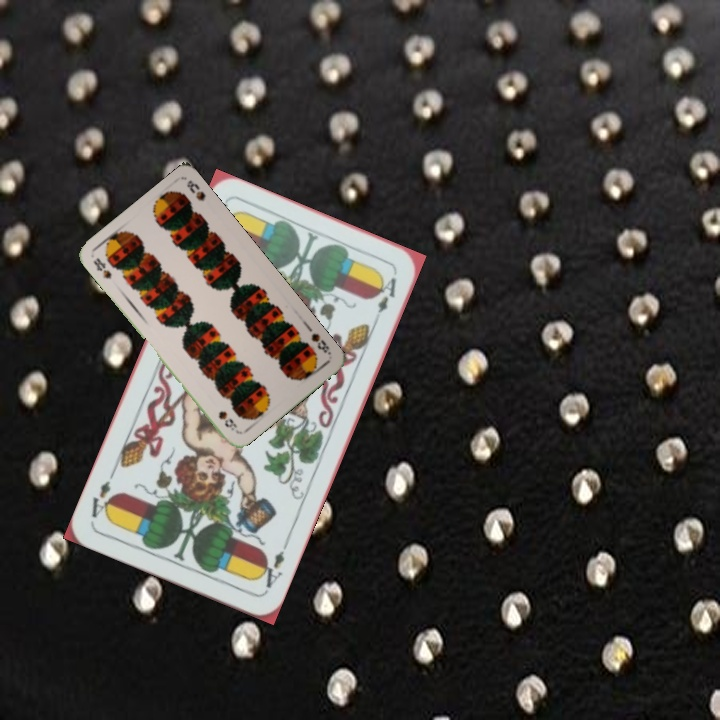EA: (254, 538, 291, 591)
S8: (307, 329, 333, 357), (89, 254, 114, 282)
